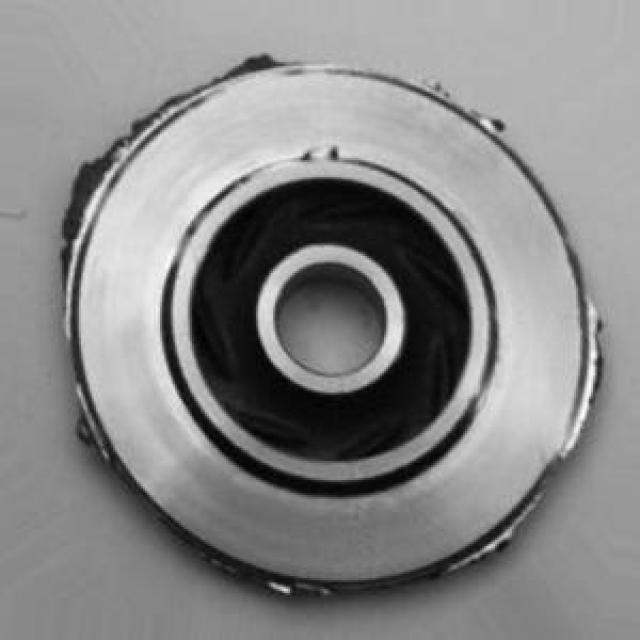Defect: (62, 154, 125, 226)
